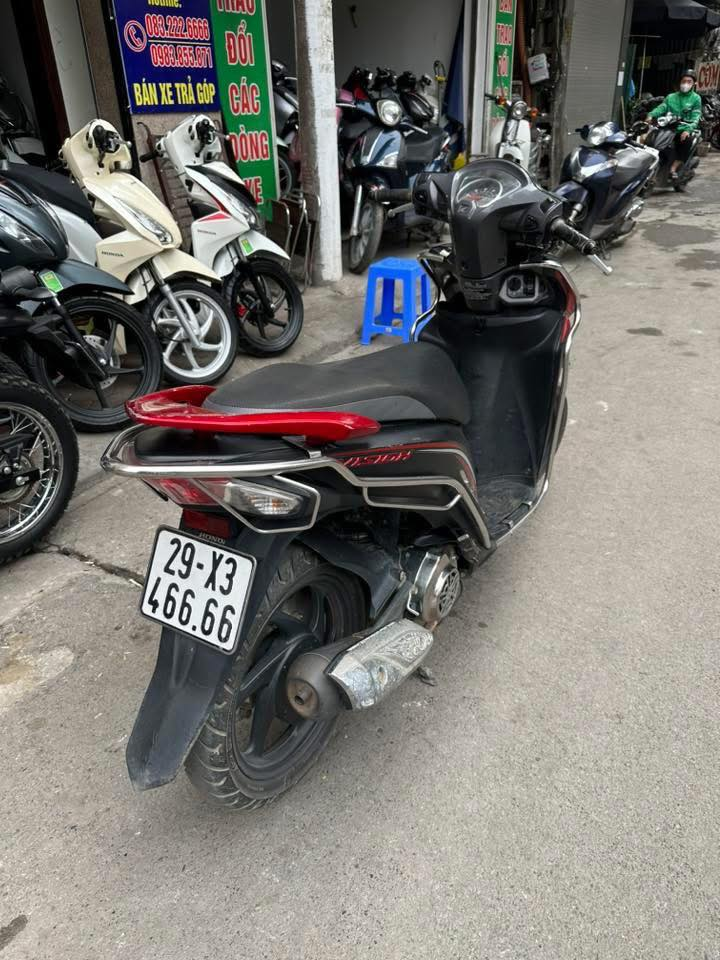bien_so: (130, 519, 266, 660)
